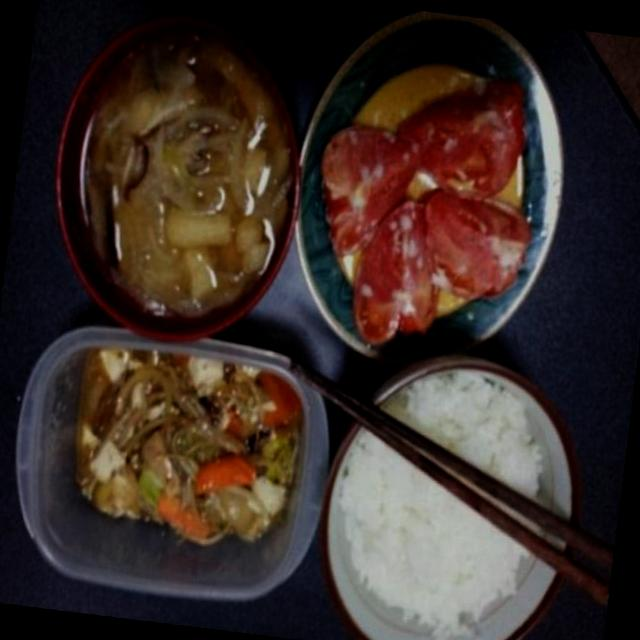Rice: (333, 388, 560, 640)
